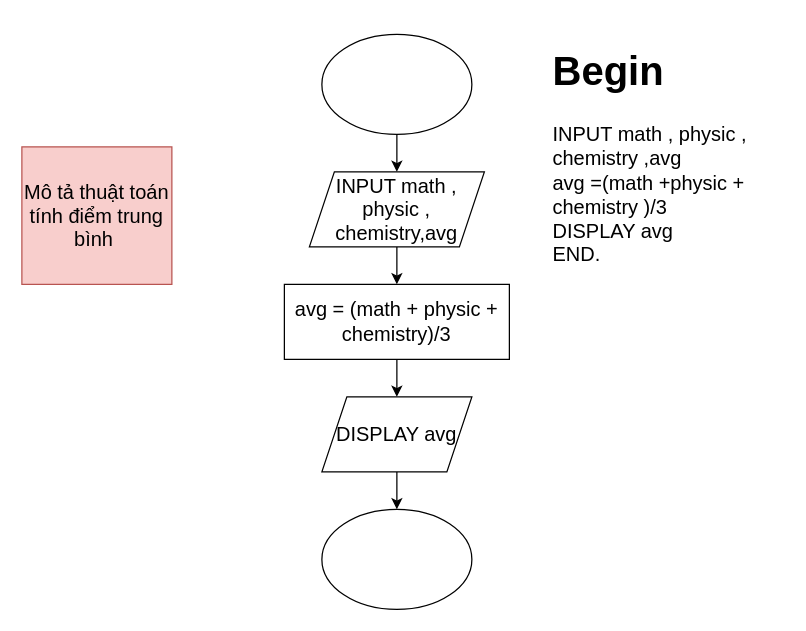
Some shapes in this 806 by 631 pixel diagram are drawn without their labels. The centre of each missing label's shape, as x and y in pixels:
"BEGIN" goes at point (396, 83).
"END" goes at point (396, 558).
